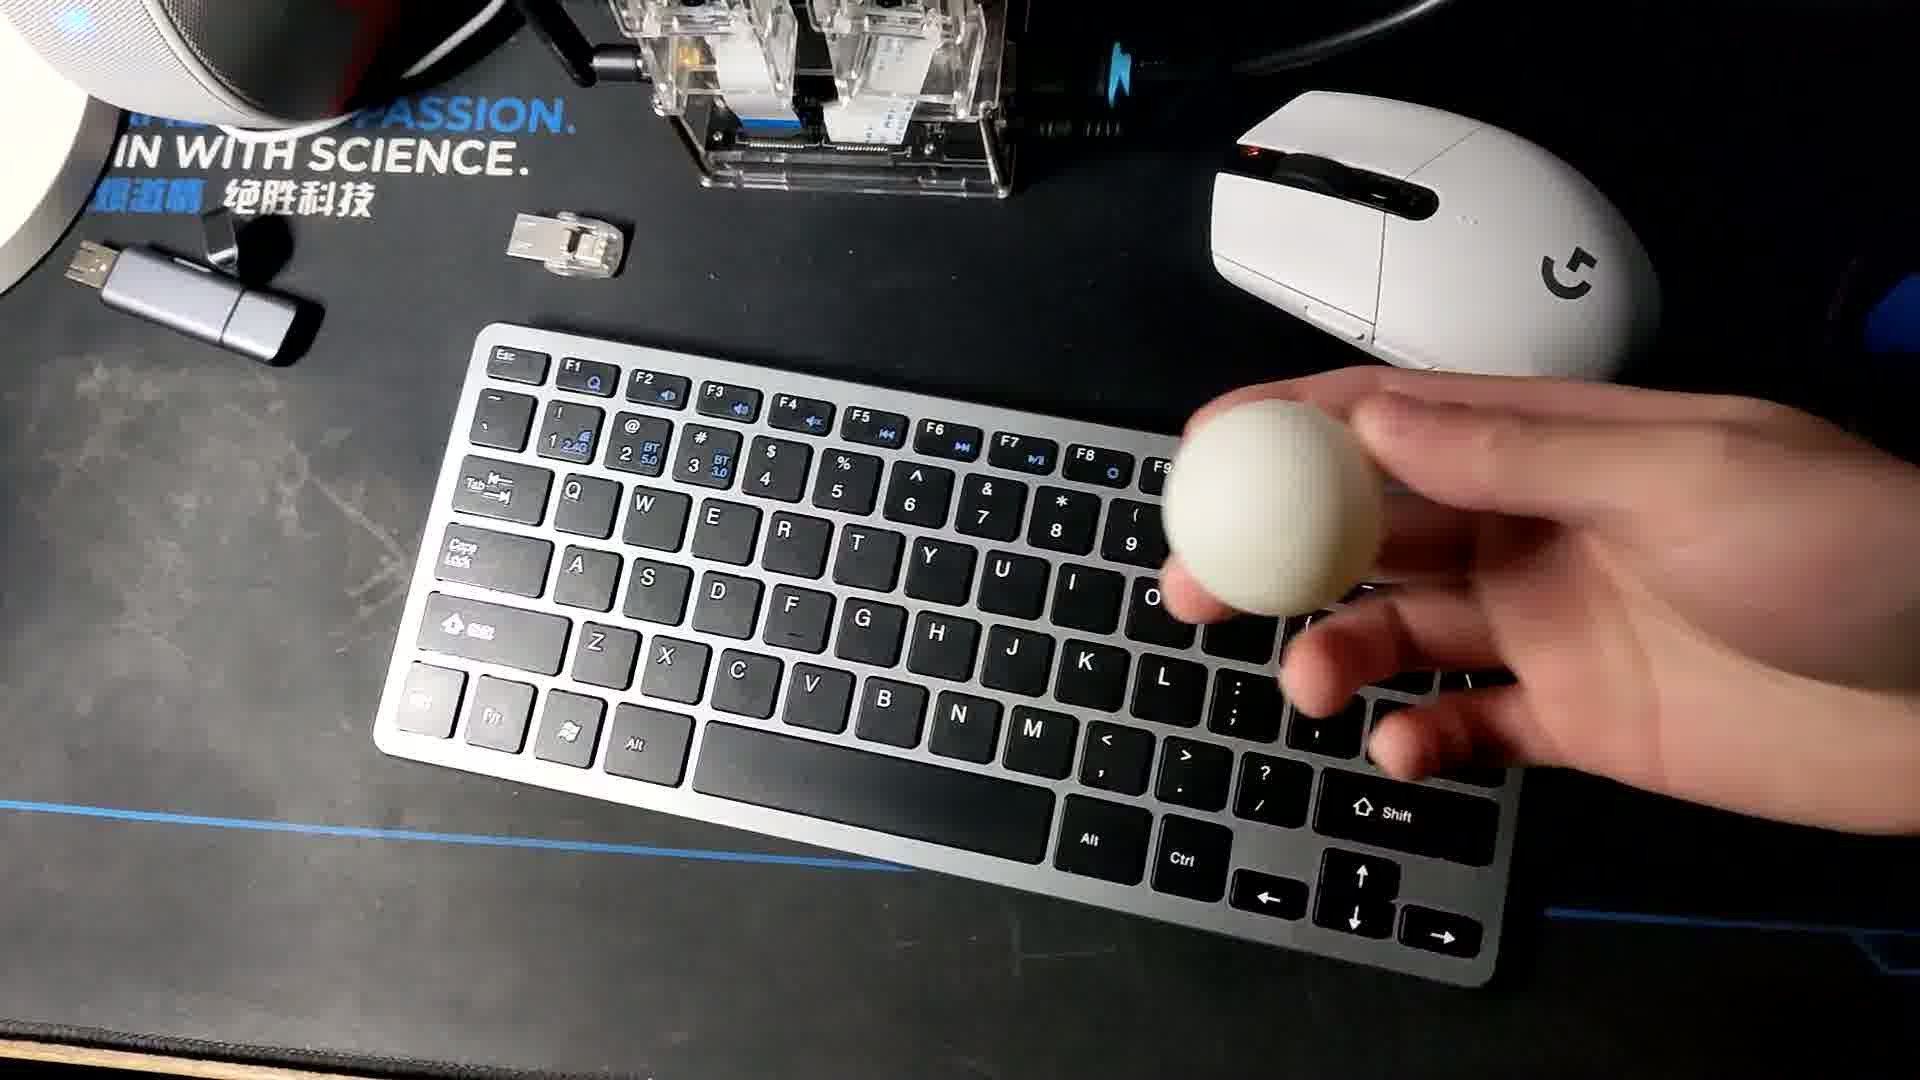Ball: (1164, 402, 1367, 622)
